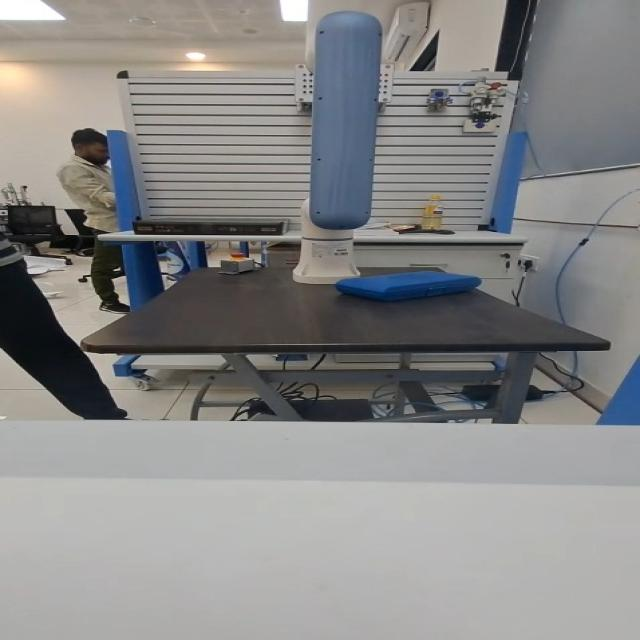top-surface: (354, 273, 472, 288)
